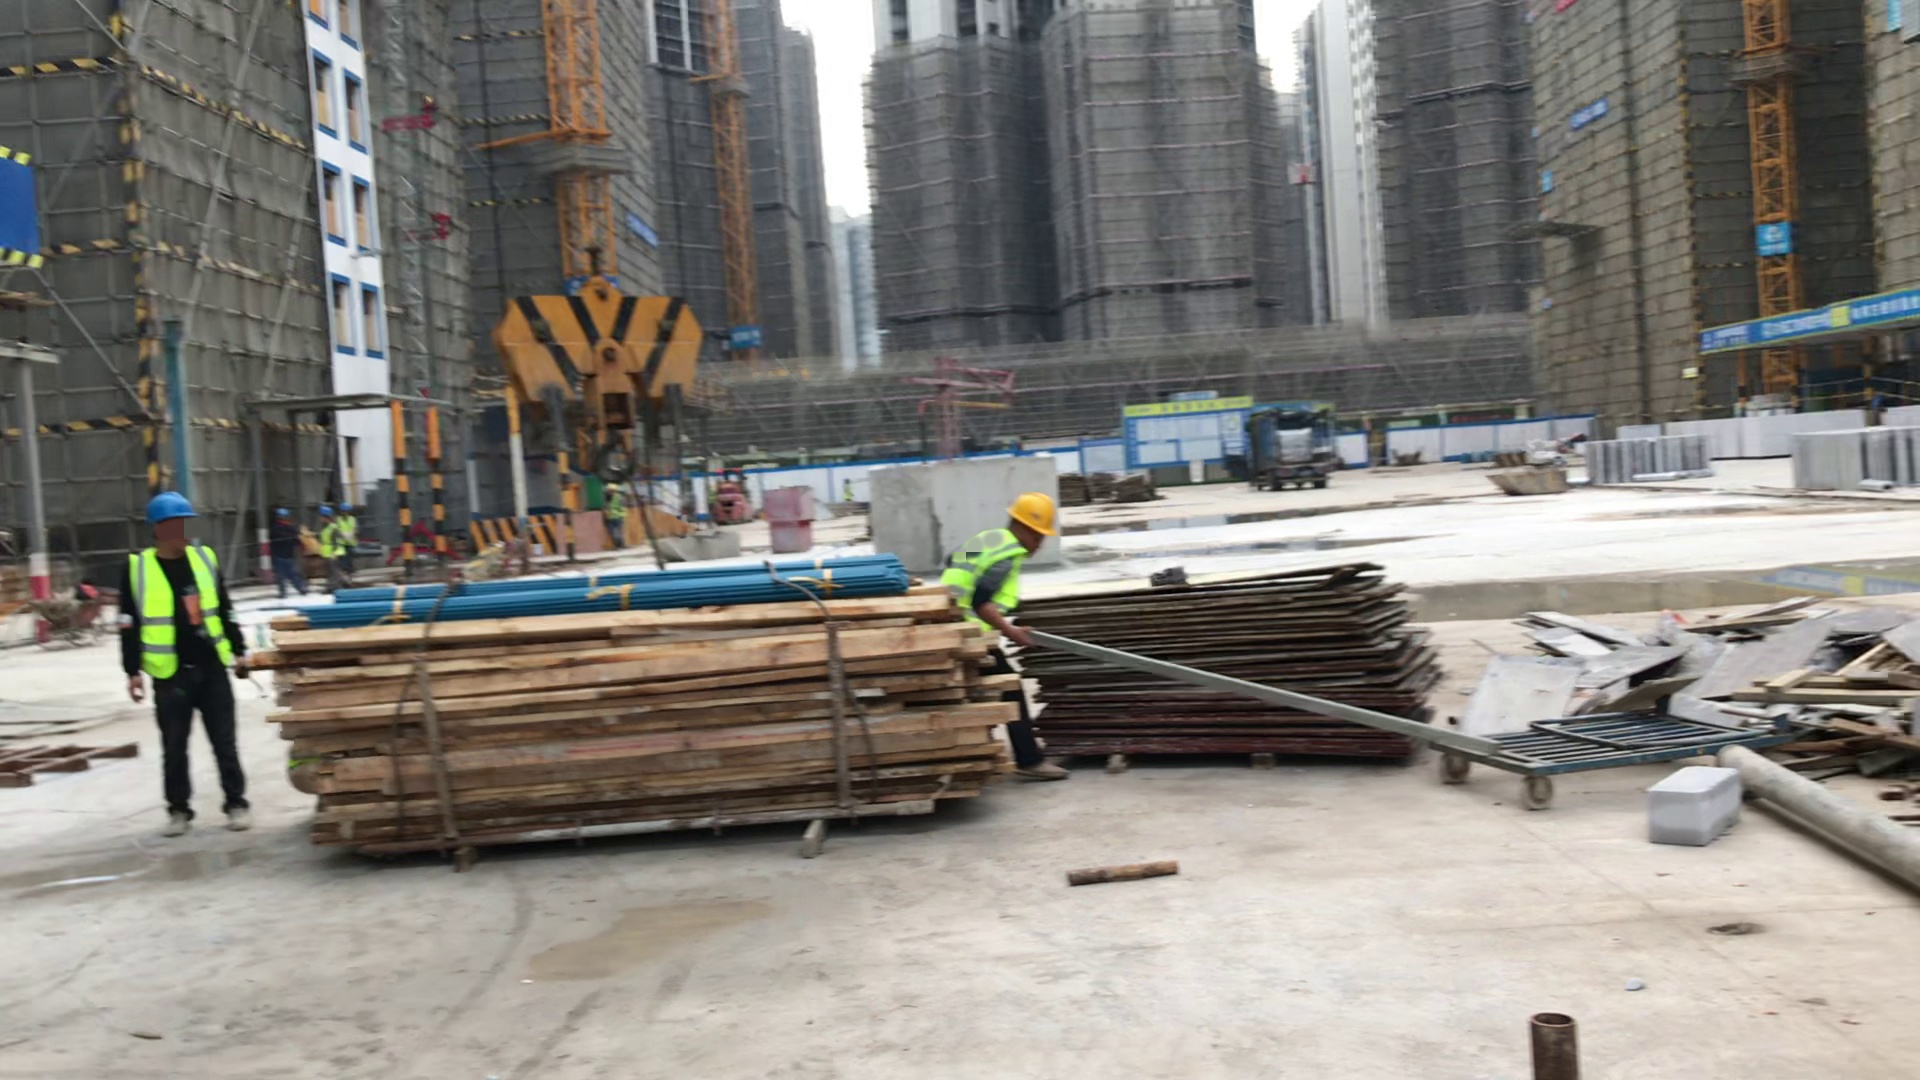board: (1024, 576, 1438, 764)
handcart: (29, 591, 108, 645)
helmet: (1007, 493, 1057, 538), (145, 493, 198, 526), (277, 508, 292, 520), (319, 506, 334, 518)
hook: (489, 243, 706, 484)
hopper: (652, 531, 744, 557), (1489, 469, 1570, 496)
person: (124, 492, 255, 837), (943, 497, 1062, 785), (273, 511, 305, 595), (315, 504, 342, 589), (602, 485, 625, 557), (340, 503, 356, 579)
slogan: (1706, 299, 1920, 339), (1571, 110, 1605, 130)
vest: (128, 551, 233, 679), (949, 531, 1020, 627), (320, 526, 340, 558)
wood: (281, 601, 1013, 837)
